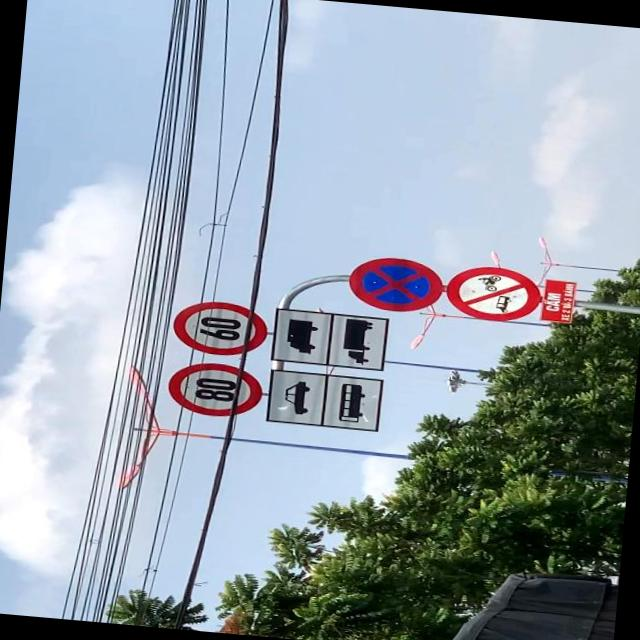P-104: (442, 262, 544, 326)
P-127: (167, 359, 266, 419), (171, 298, 269, 358)
P-130: (347, 252, 441, 314)
